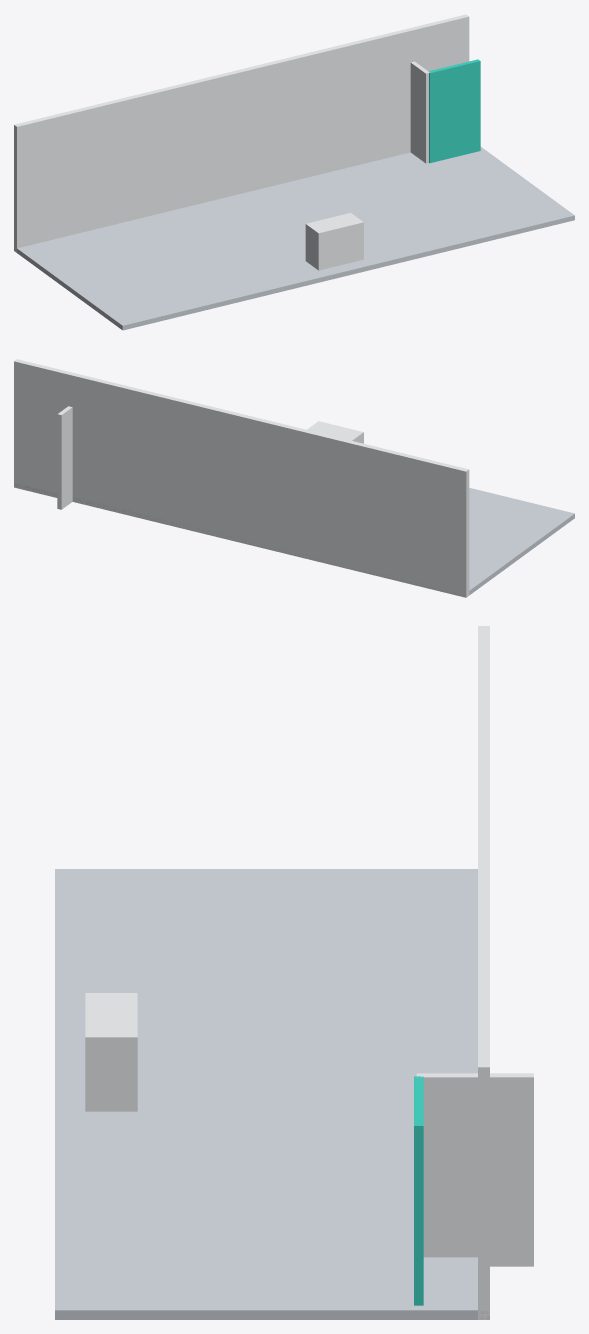
3 views of the same model, one above another, from view 1: azimuth 30°, elevation 25°; view 2: azimuth 150°, elevation 25°; view 3: azimuth 270°, elevation 25° (orthographic). The views are drawn at different scales.
Parts seen in each view (by area): view 1: Exhibition Booth Concept; view 2: Exhibition Booth Concept; view 3: Exhibition Booth Concept.
Part boxes in pixels (x1,y1,x2,y2): Exhibition Booth Concept: (14, 14, 574, 330); Exhibition Booth Concept: (14, 359, 574, 597); Exhibition Booth Concept: (55, 626, 533, 1319).
Bounding box in the file's own units: 12 × 3.2 × 5.51.
